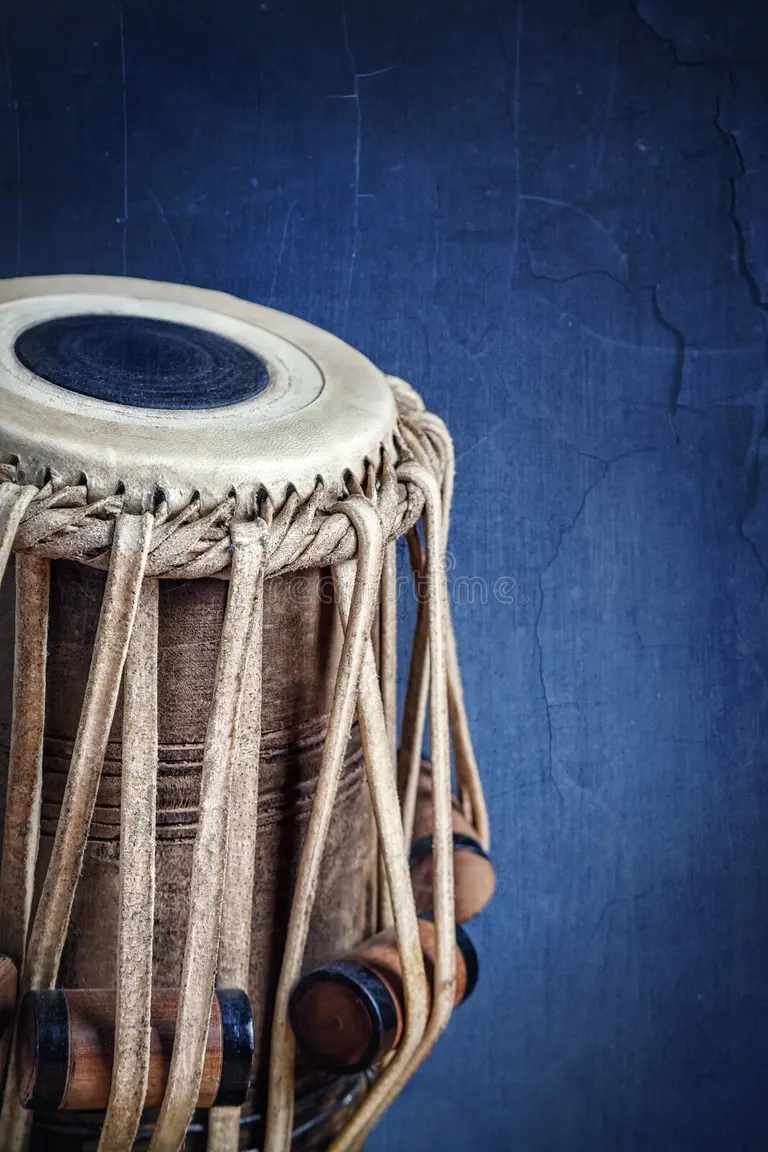tabla: (20, 273, 452, 446)
